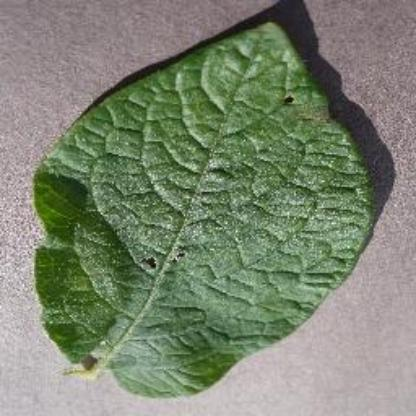Healthy-plant: (28, 20, 376, 400)
